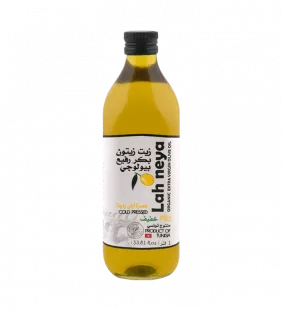LAHNEYA: (92, 20, 188, 291)
